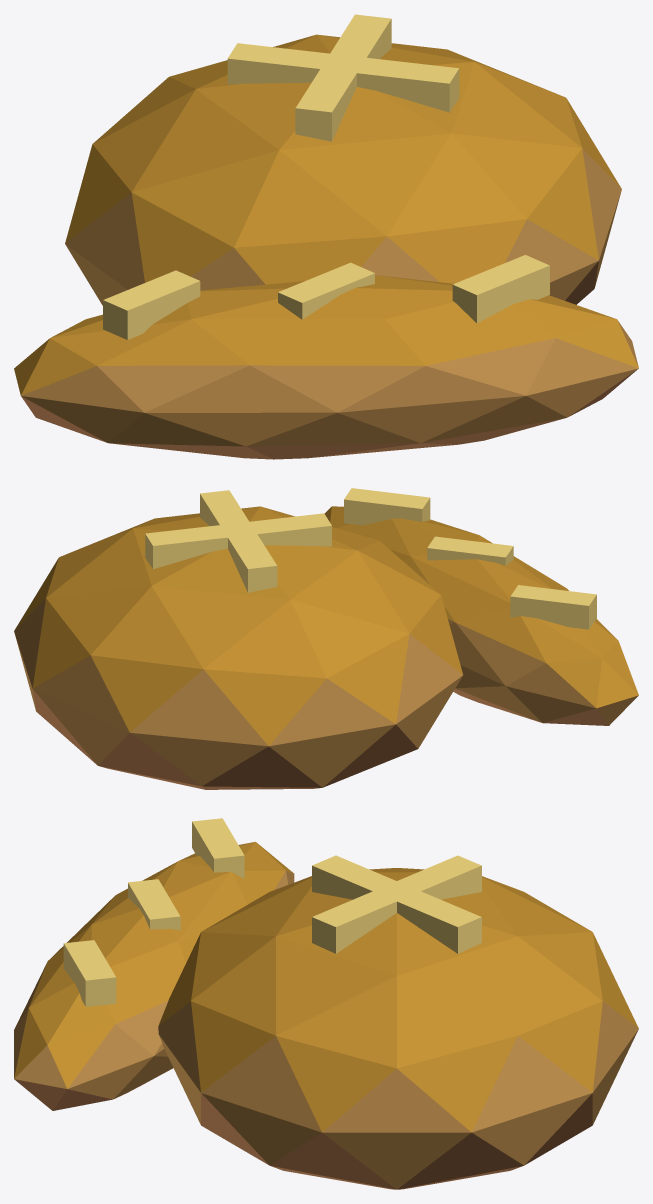
File: Res_Bread.fbx
The picture shows the model from 3 angles, top to bottom: view 1: azimuth 30°, elevation 25°; view 2: azimuth 150°, elevation 25°; view 3: azimuth 270°, elevation 25°; orthographic projection. The views are drawn at different scales.
Visible parts, largest first — view 1: Res_Bread; view 2: Res_Bread; view 3: Res_Bread.
Boxes of the visible parts, <box> form: Res_Bread: <box>14,14,638,459</box>; Res_Bread: <box>14,488,638,789</box>; Res_Bread: <box>14,818,638,1189</box>.
Size of the model in its own units: 0.5523 by 0.19 by 0.5151.
